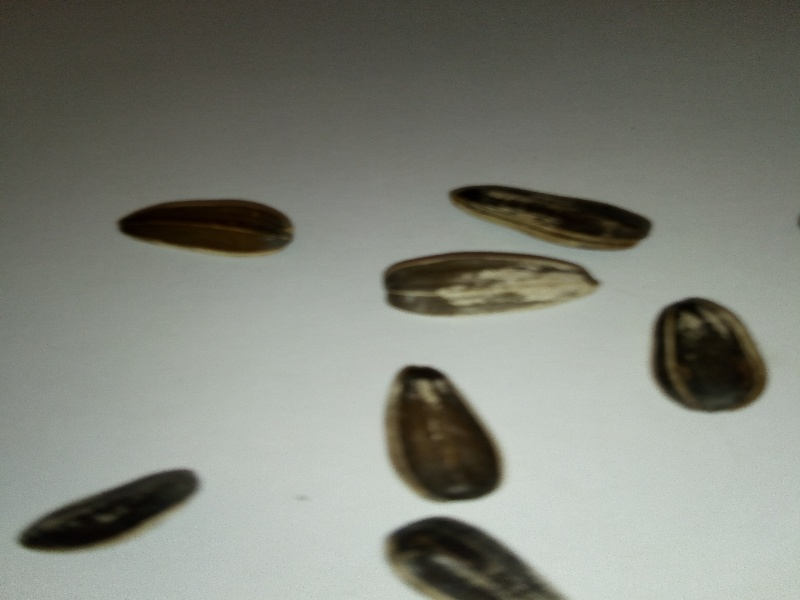girasol: (374, 354, 518, 509), (643, 289, 775, 415), (109, 190, 305, 261)
